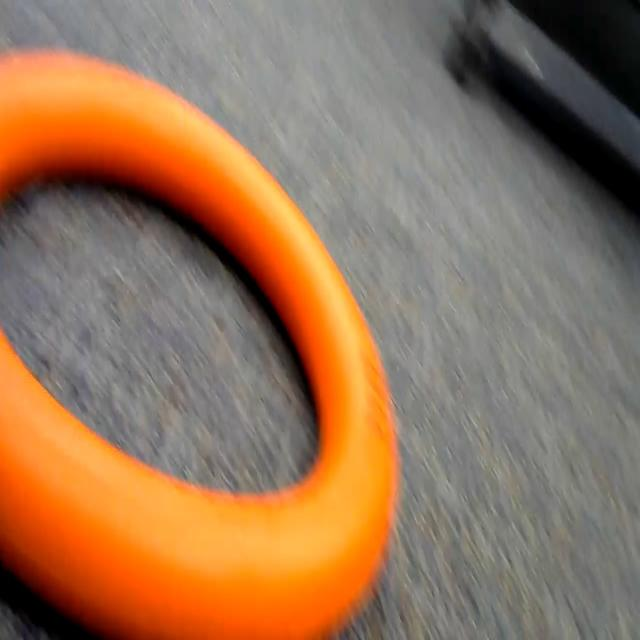note: (0, 38, 424, 640)
